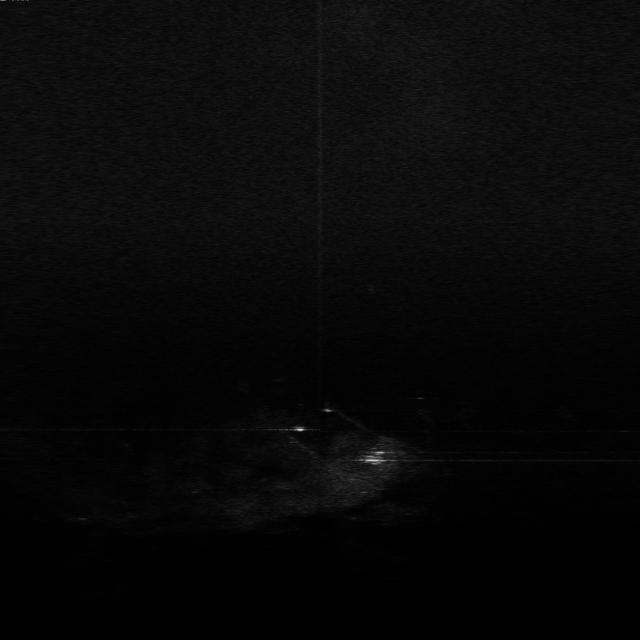rov: (362, 447, 394, 467)
